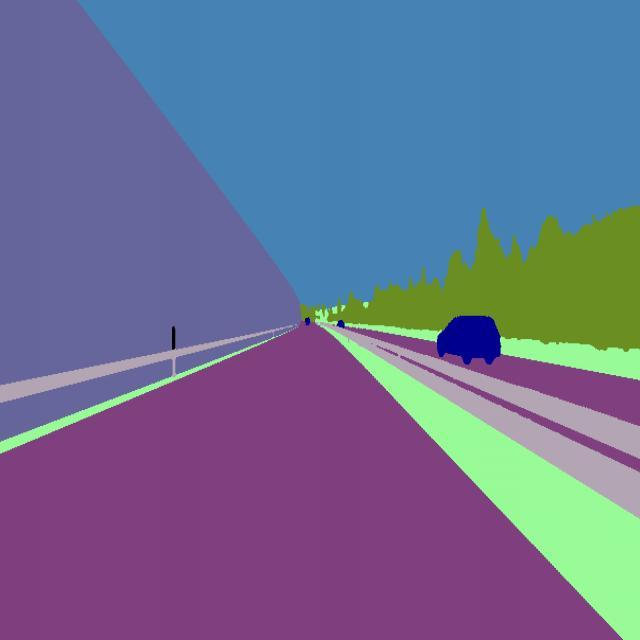safe: (433, 310, 506, 371), (333, 317, 349, 332), (302, 312, 312, 328)
